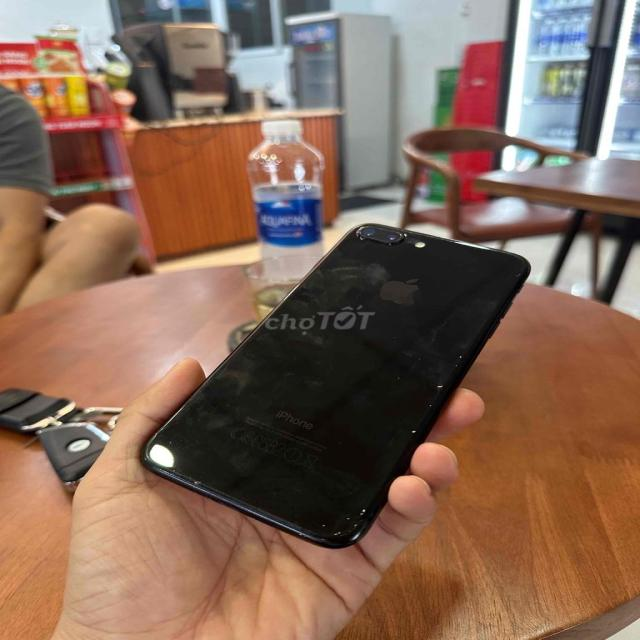gen_7_8: (142, 224, 529, 547)
